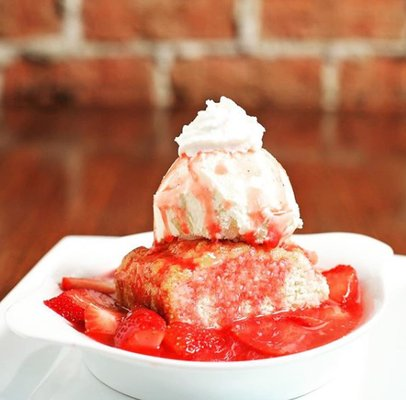sushi: (2, 231, 401, 395)
